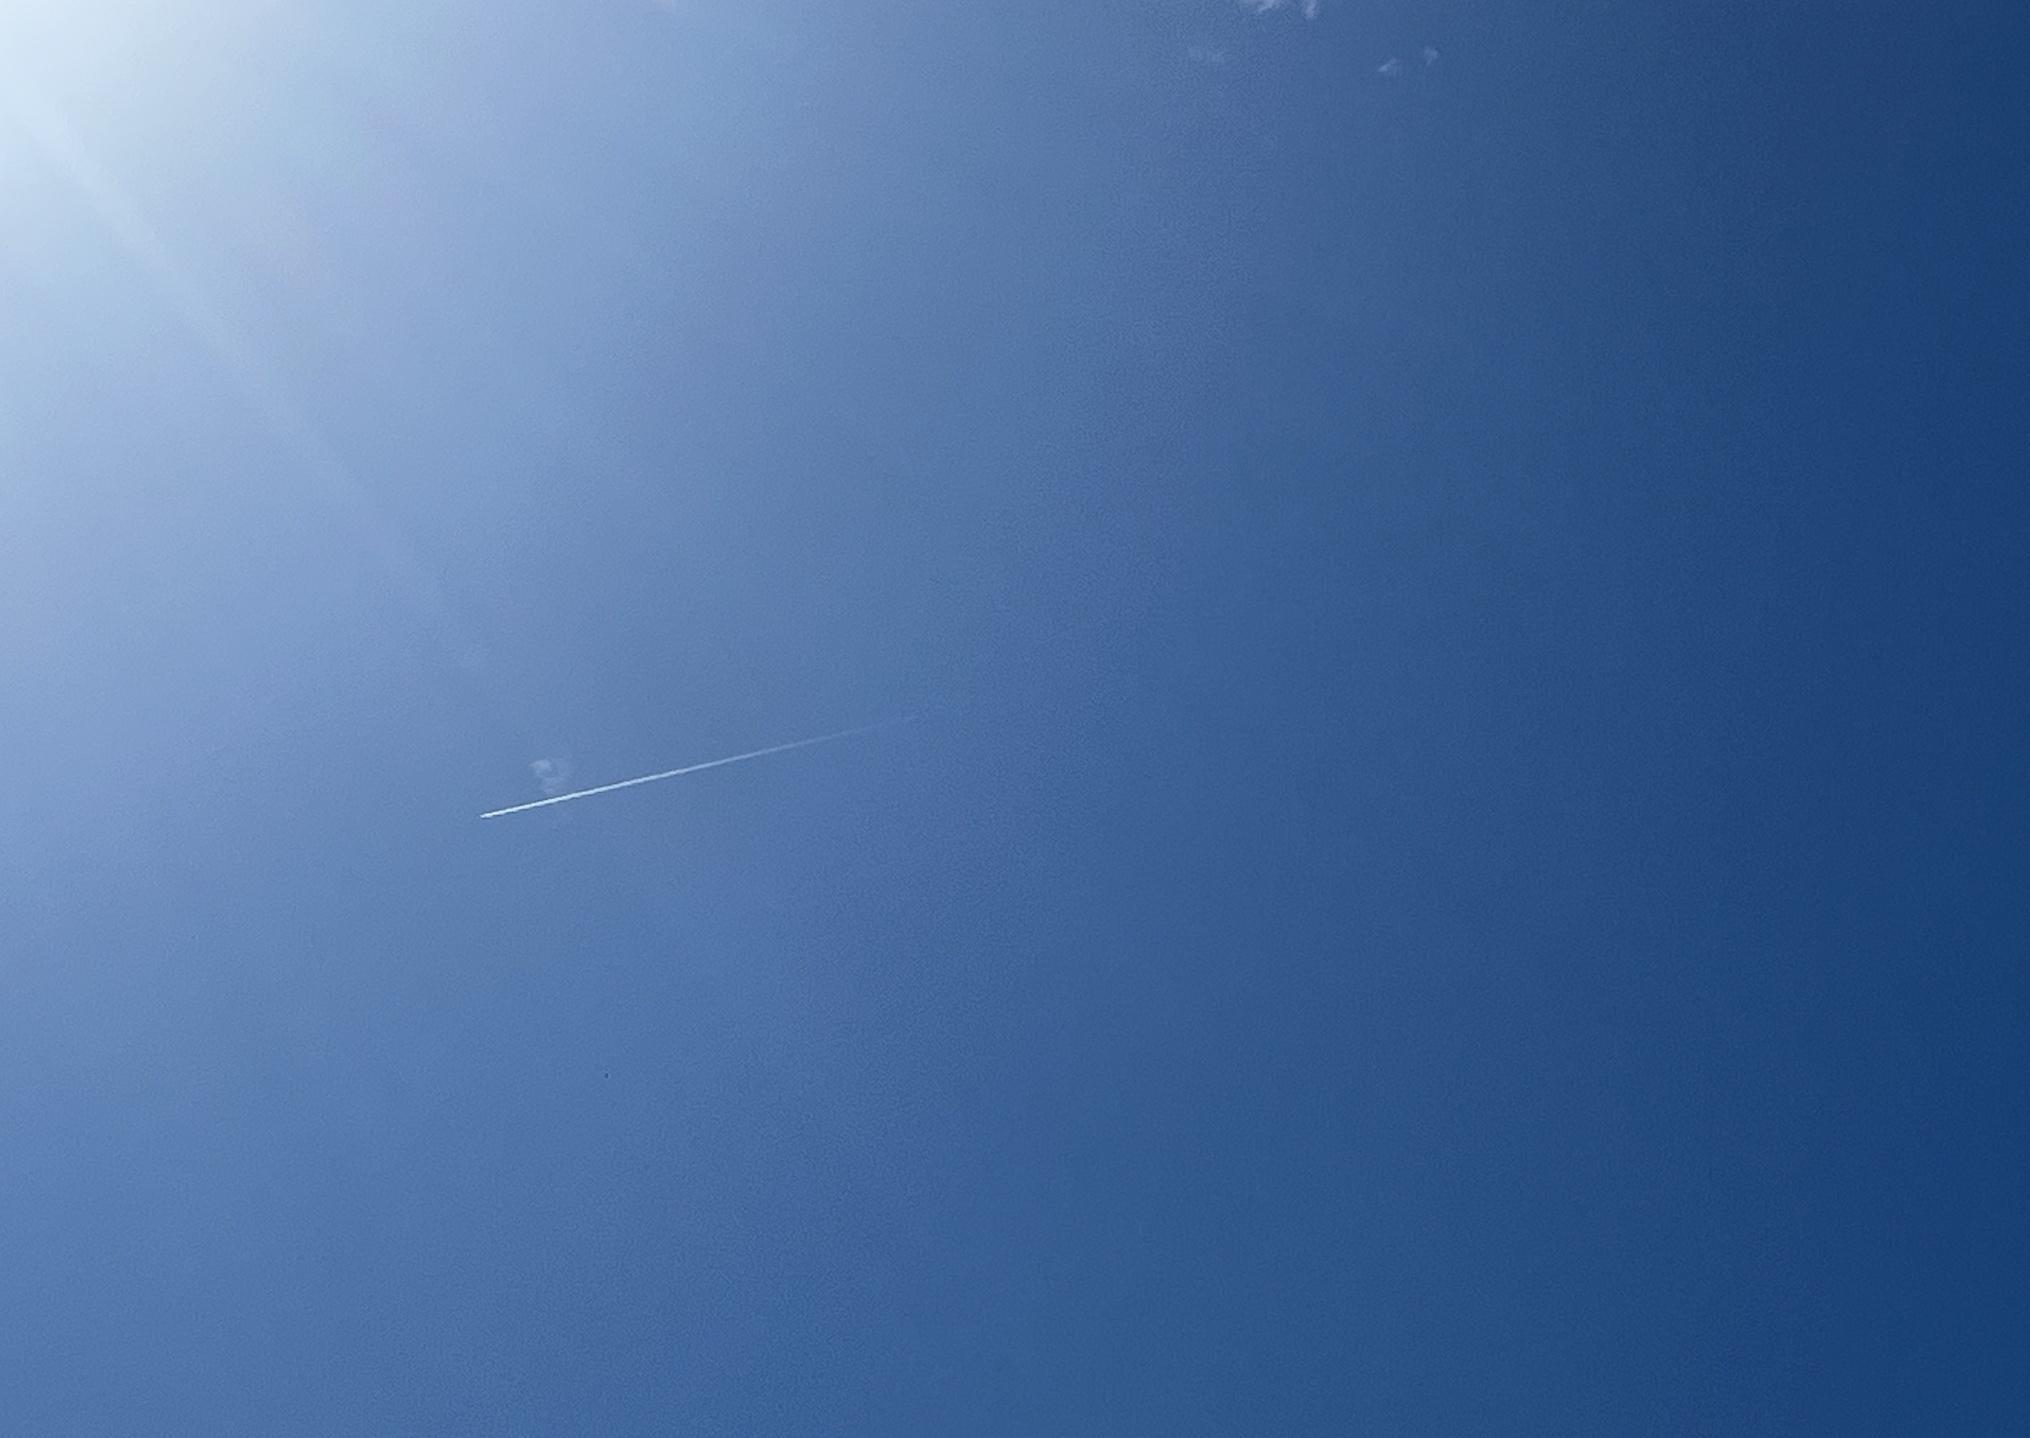Plane: (448, 714, 894, 836)
